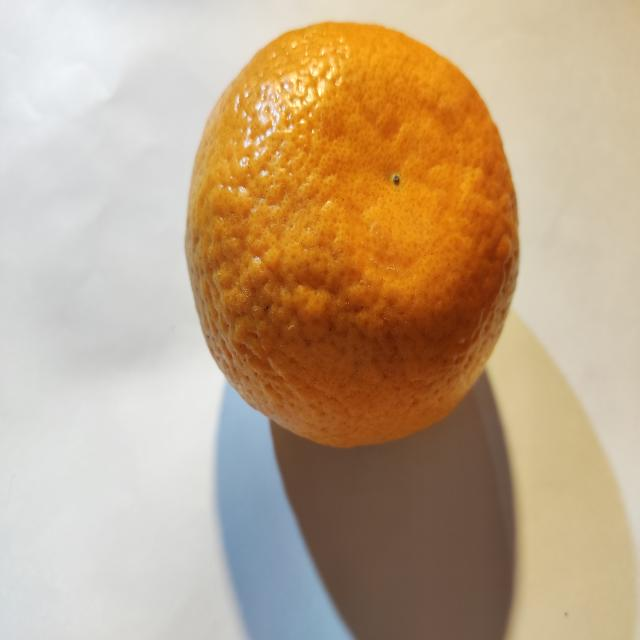orange: (186, 24, 518, 446)
